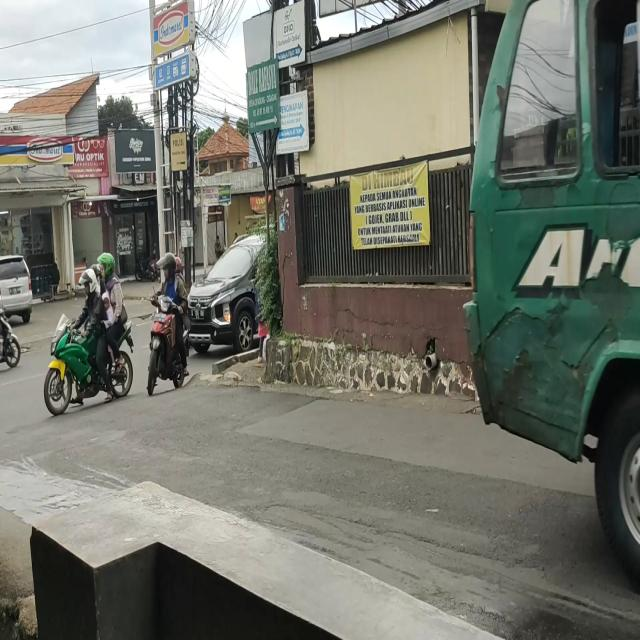helmet: (78, 266, 97, 296), (158, 257, 176, 283), (100, 254, 114, 280)
no-helmet: (101, 294, 110, 312)
